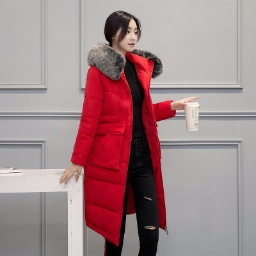face: (86, 5, 149, 56)
